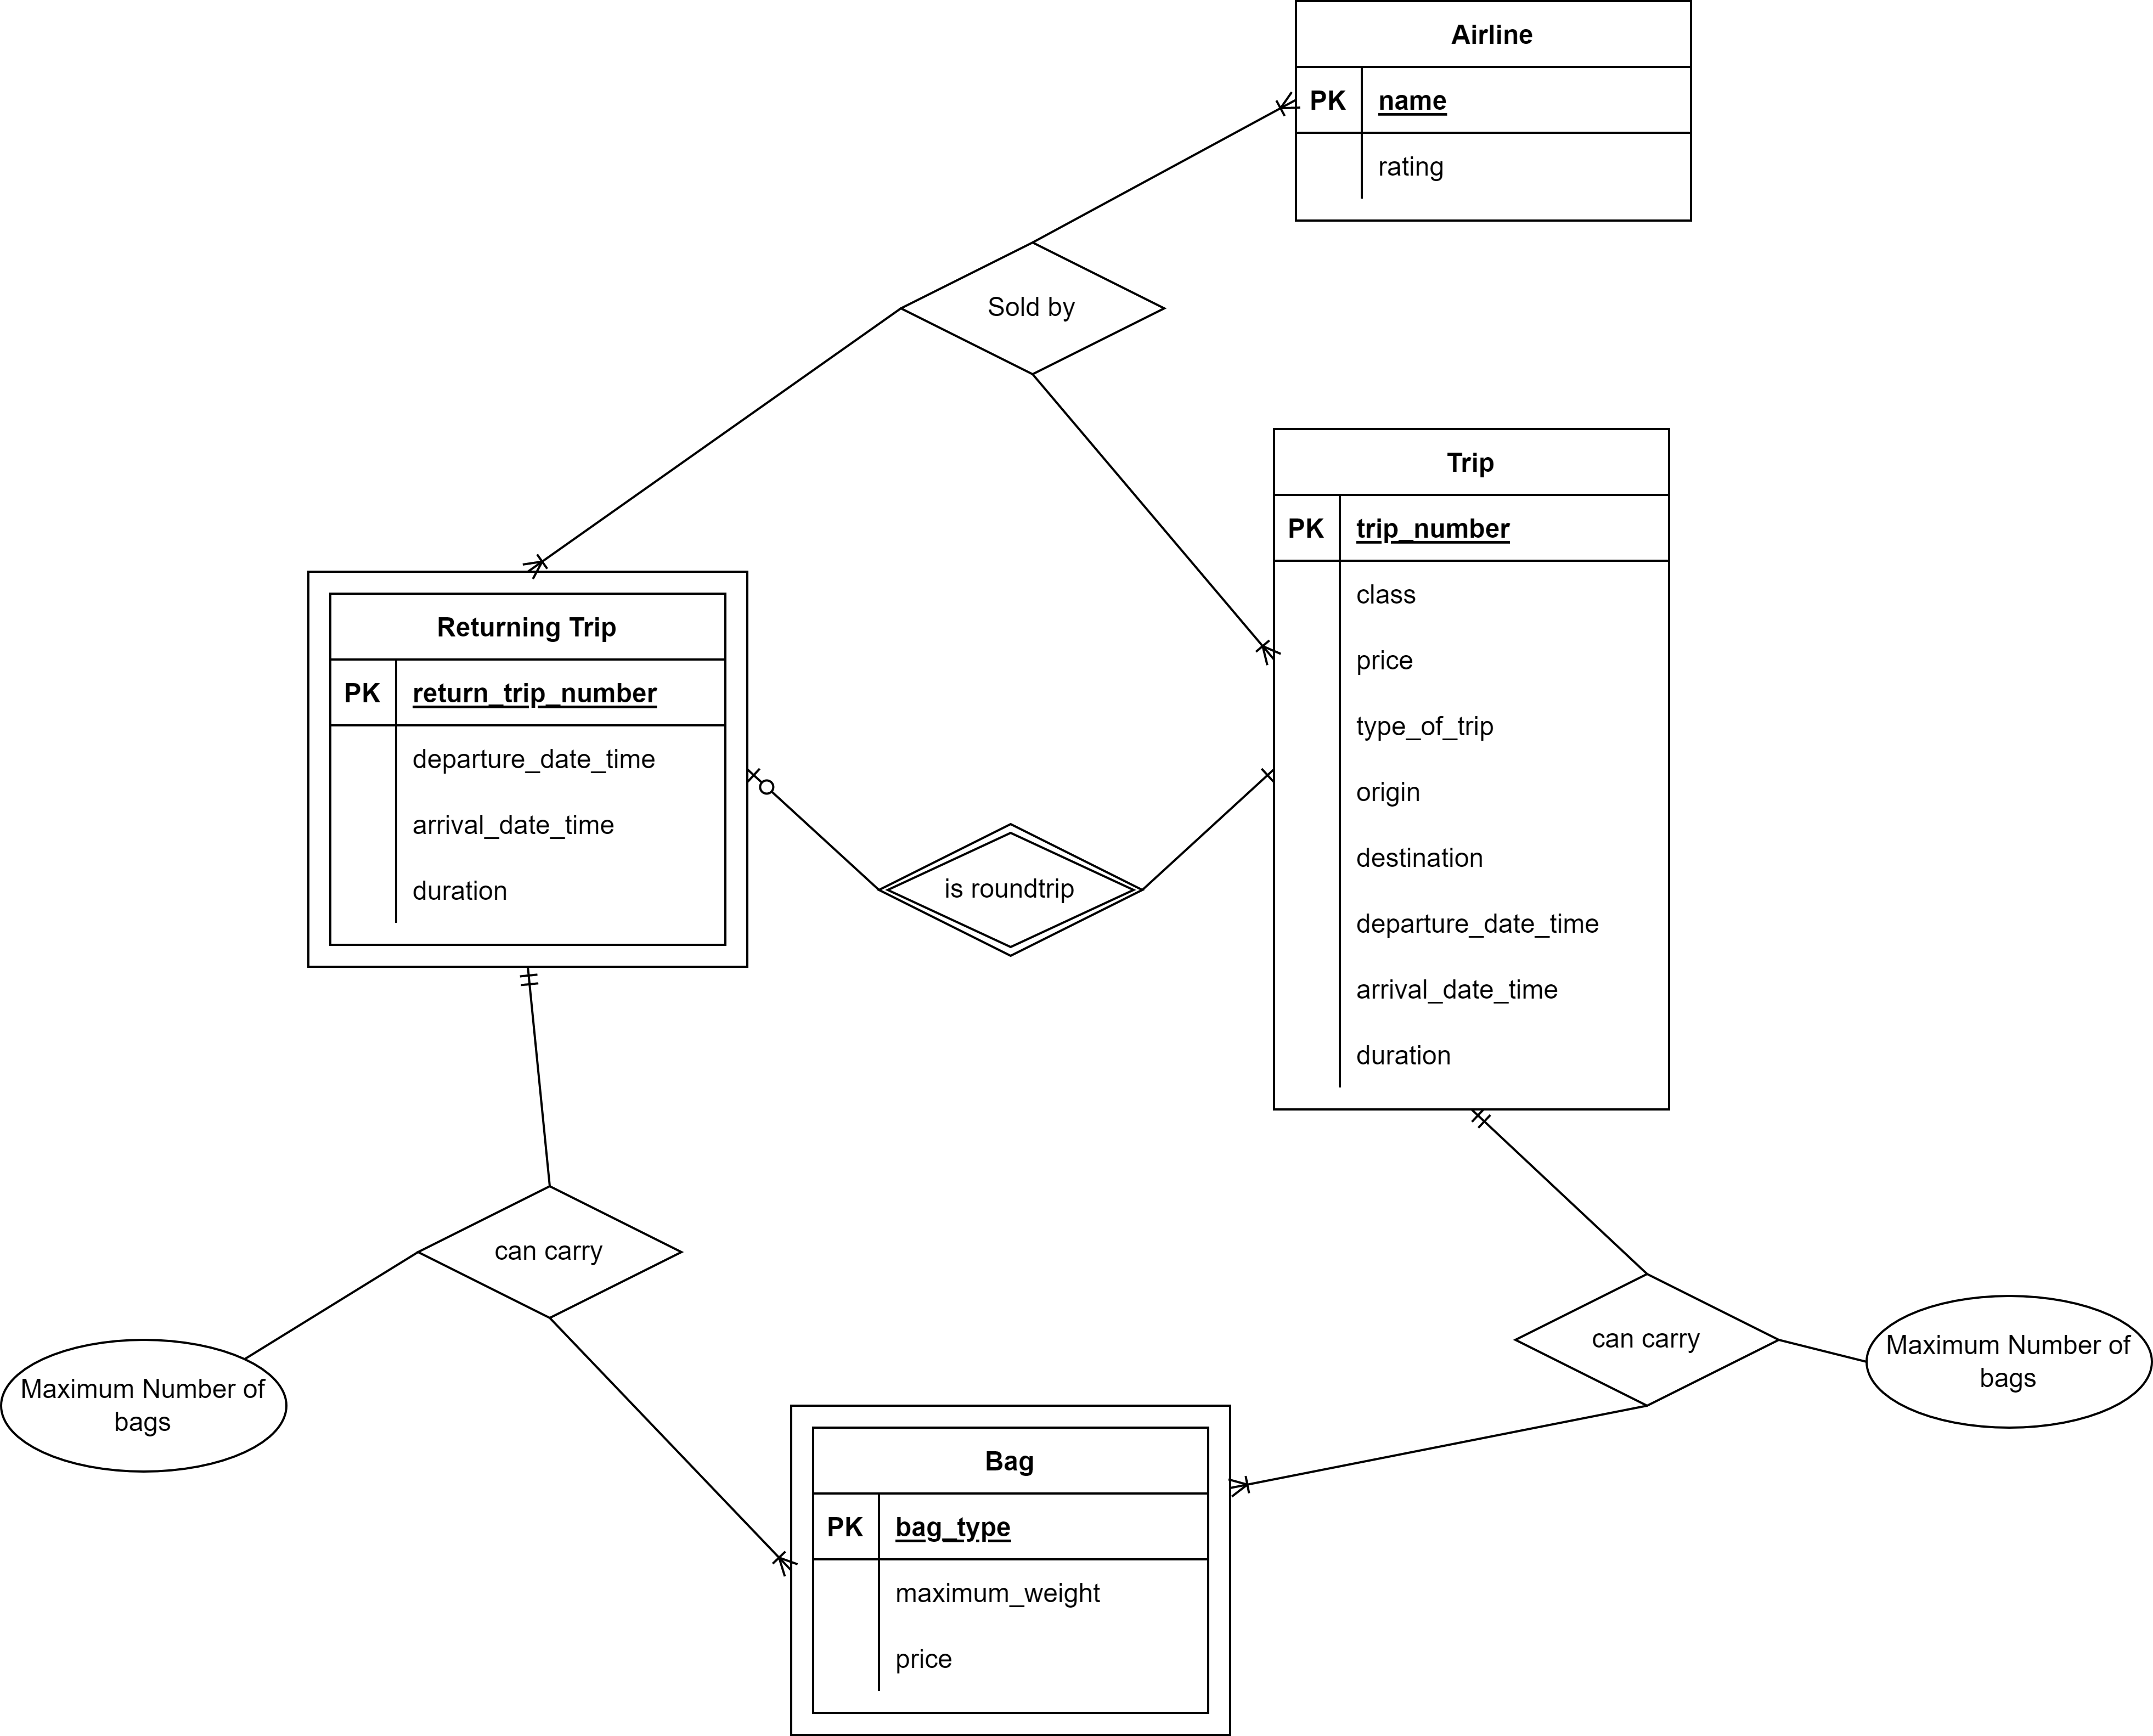entity: (1275, 430, 1671, 1111), (1296, 2, 1691, 220)
ident_rel: (878, 825, 1142, 955)
many: (752, 1520, 797, 1608), (1241, 76, 1300, 136), (1231, 1458, 1287, 1520), (1239, 615, 1280, 686), (517, 533, 577, 581)
one: (1452, 1105, 1521, 1155), (742, 755, 795, 818), (501, 964, 567, 1010), (1234, 753, 1275, 804)
rel: (1514, 1268, 1774, 1410), (414, 1185, 682, 1318), (899, 244, 1167, 370)
rel_attr: (1868, 1293, 2153, 1433), (0, 1339, 290, 1474)
weak_entity: (308, 569, 752, 965), (790, 1399, 1229, 1734)
